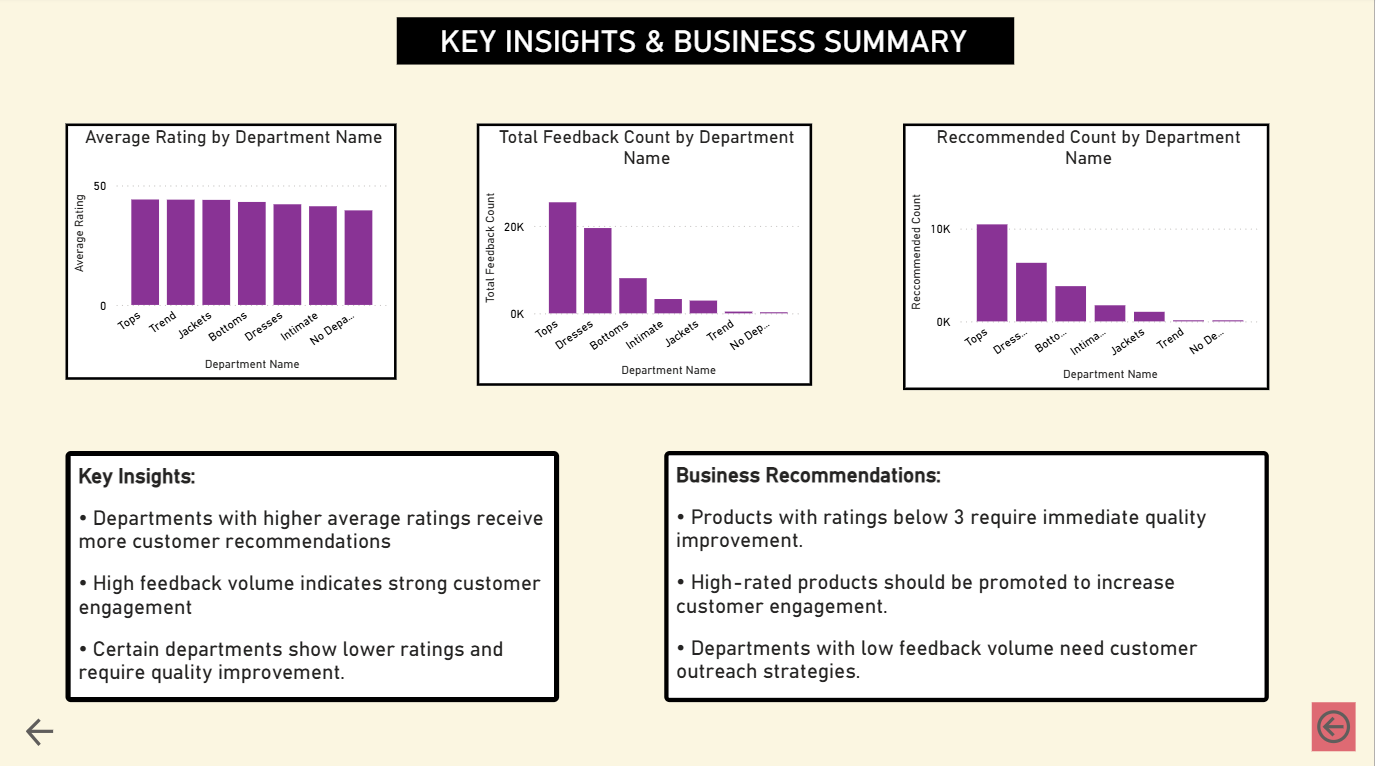

This screenshot's page, from the dashboard's own definition file:
{"tool":"powerbi","page":{"name":"PAGE 4","canvas":[1280,720],"ordinal":4},"visuals":[{"type":"actionButton","box":[1222.1,657,40.7,45.3],"z":0},{"type":"textbox","box":[370.9,19.8,574.4,44.2],"z":1000},{"type":"columnChart","title":"Average Rating by Department Name","fields":{"Category":["Sheet1.department_name"],"Y":["Sheet1.AVERAGE_RATING"]},"box":[62.8,118.6,308.1,238.4],"z":2000},{"type":"columnChart","title":"Total Feedback Count by Department Name","fields":{"Category":["Sheet1.department_name"],"Y":["Sum(Sheet1.feedback_count)"]},"box":[445.4,118.6,311.6,244.2],"z":3000},{"type":"columnChart","title":"Reccommended Count by Department Name","fields":{"Category":["Sheet1.department_name"],"Y":["Sheet1.Reccommendation_count"]},"box":[841.9,118.6,340.7,247.7],"z":4000},{"type":"textbox","box":[62.8,423.3,459.3,233.7],"z":5000},{"type":"textbox","box":[619.8,423.3,562.8,233.7],"z":6000},{"type":"actionButton","box":[22.1,667.4,48.8,34.9],"z":7000}]}

Visuals, with their boxes in screenshot pixels (x1, y1, x2, y2), scaled from the page's 1280x720 canvas onto the 1376x766 screenshot:
actionButton: <box>1314,699,1358,747</box>
textbox: <box>399,21,1016,68</box>
"Average Rating by Department Name" columnChart: <box>68,126,399,380</box>
"Total Feedback Count by Department Name" columnChart: <box>479,126,814,386</box>
"Reccommended Count by Department Name" columnChart: <box>905,126,1271,390</box>
textbox: <box>68,450,561,699</box>
textbox: <box>666,450,1271,699</box>
actionButton: <box>24,710,76,747</box>
